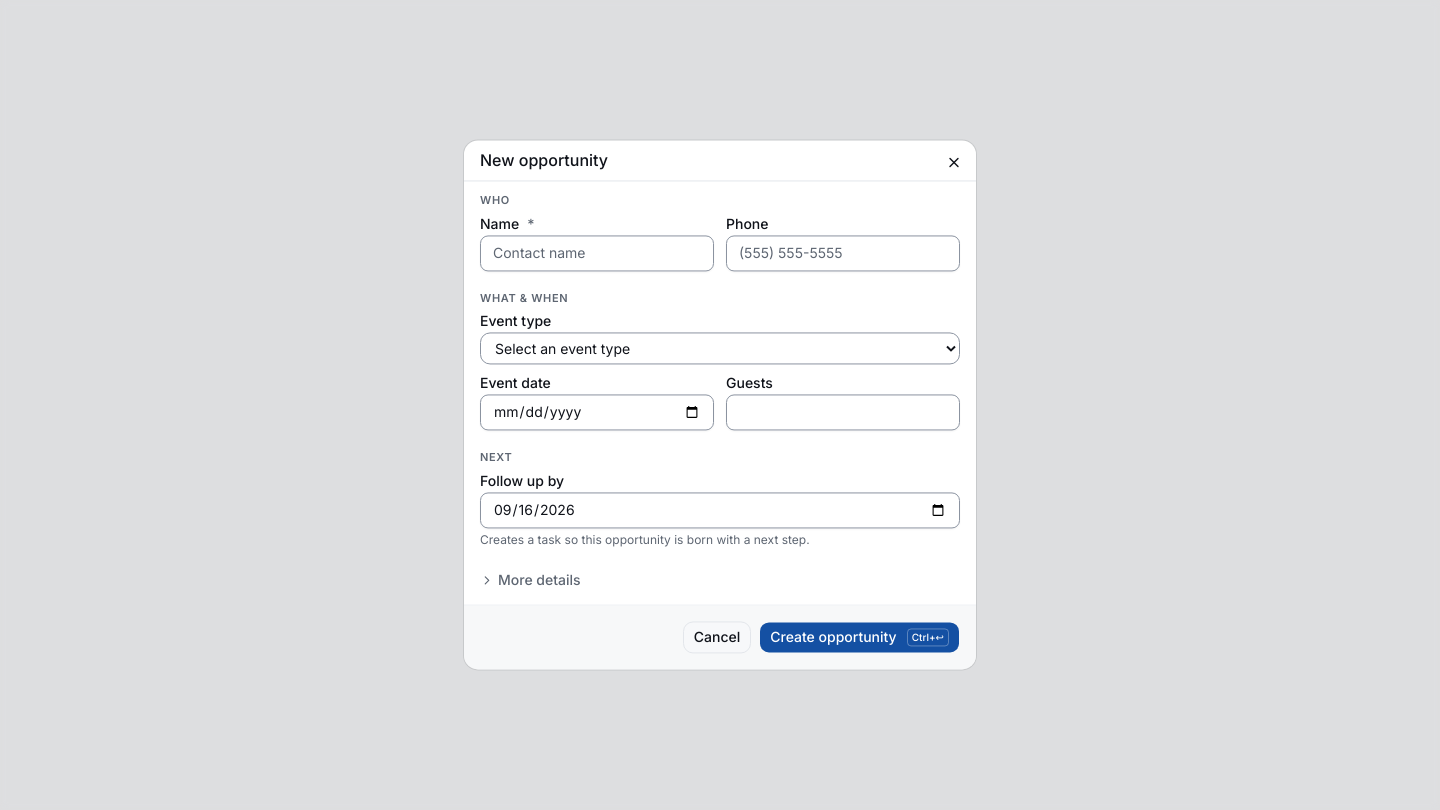
Test: NewEventTypePopover (inline create-in-flow) › opening › prefills the name from unrecognized free text via the hint action
Select "Something else…" in the dropdown labelled "Event type" at {"x": 720, "y": 349}, box [480,333,960,365]
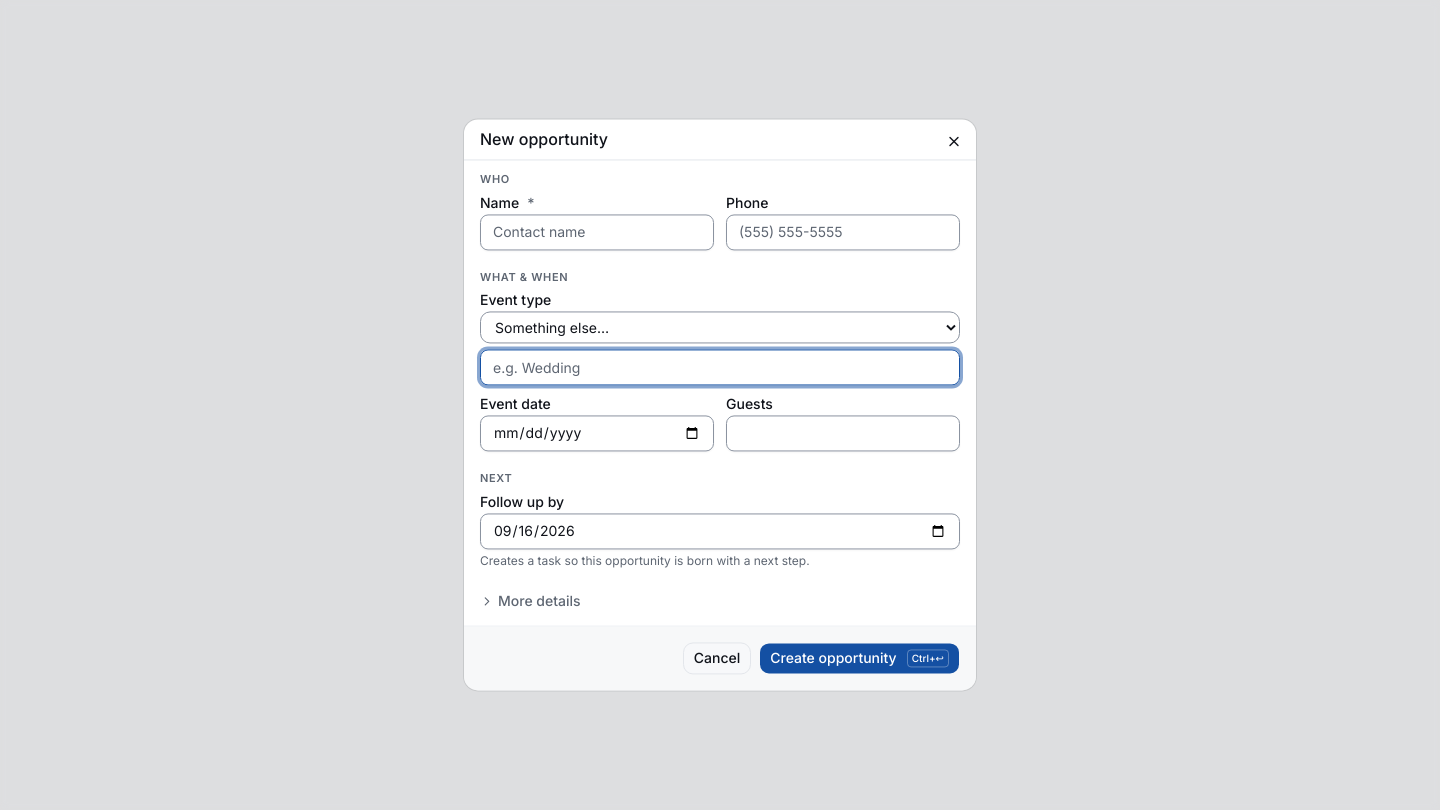
Type "  Quinceañera " into the field named "Custom event type".
click(720, 368); type("  Quinceañera ")  # box [480,350,960,386]
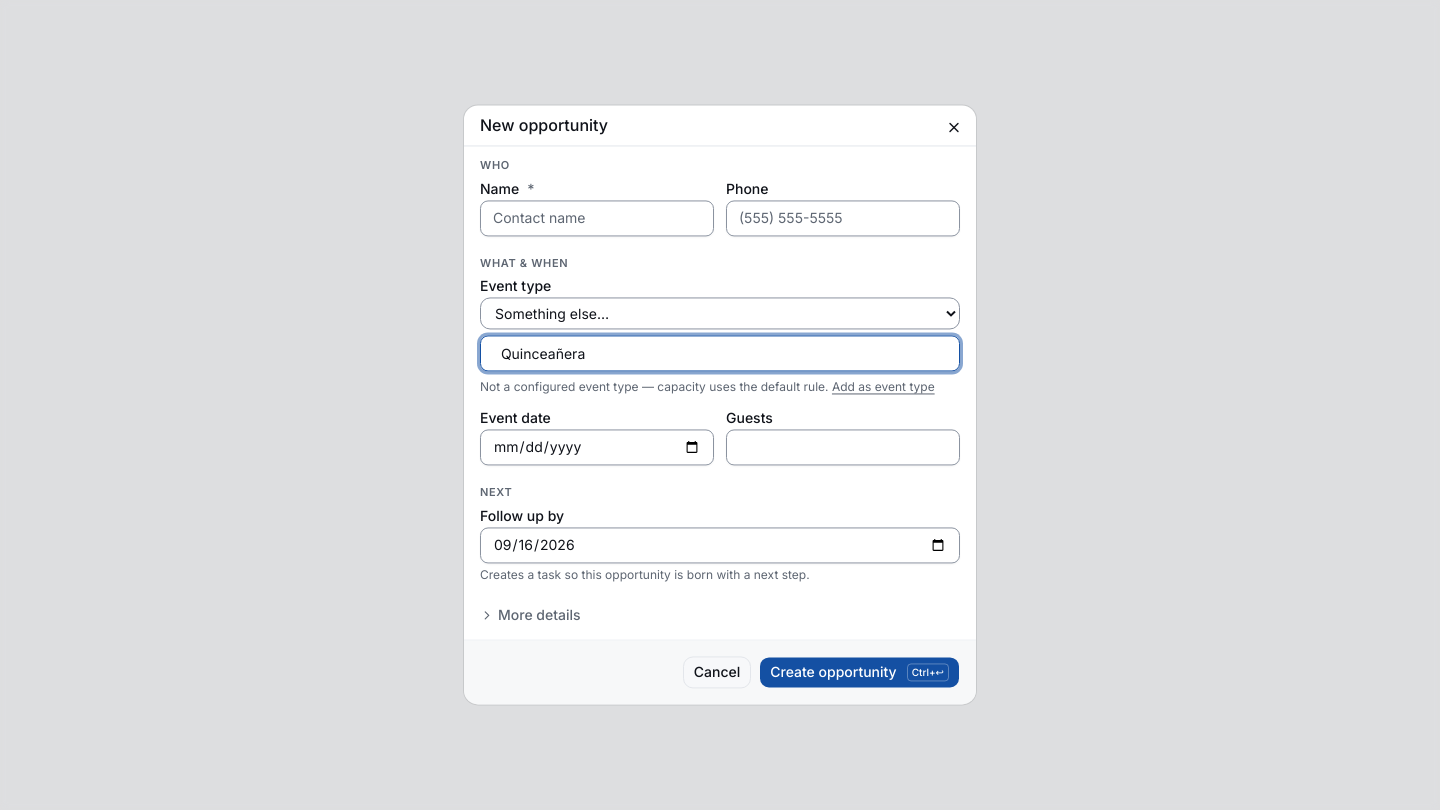
Click the button "Add as event type".
click(883, 388)  # box [832,376,935,400]
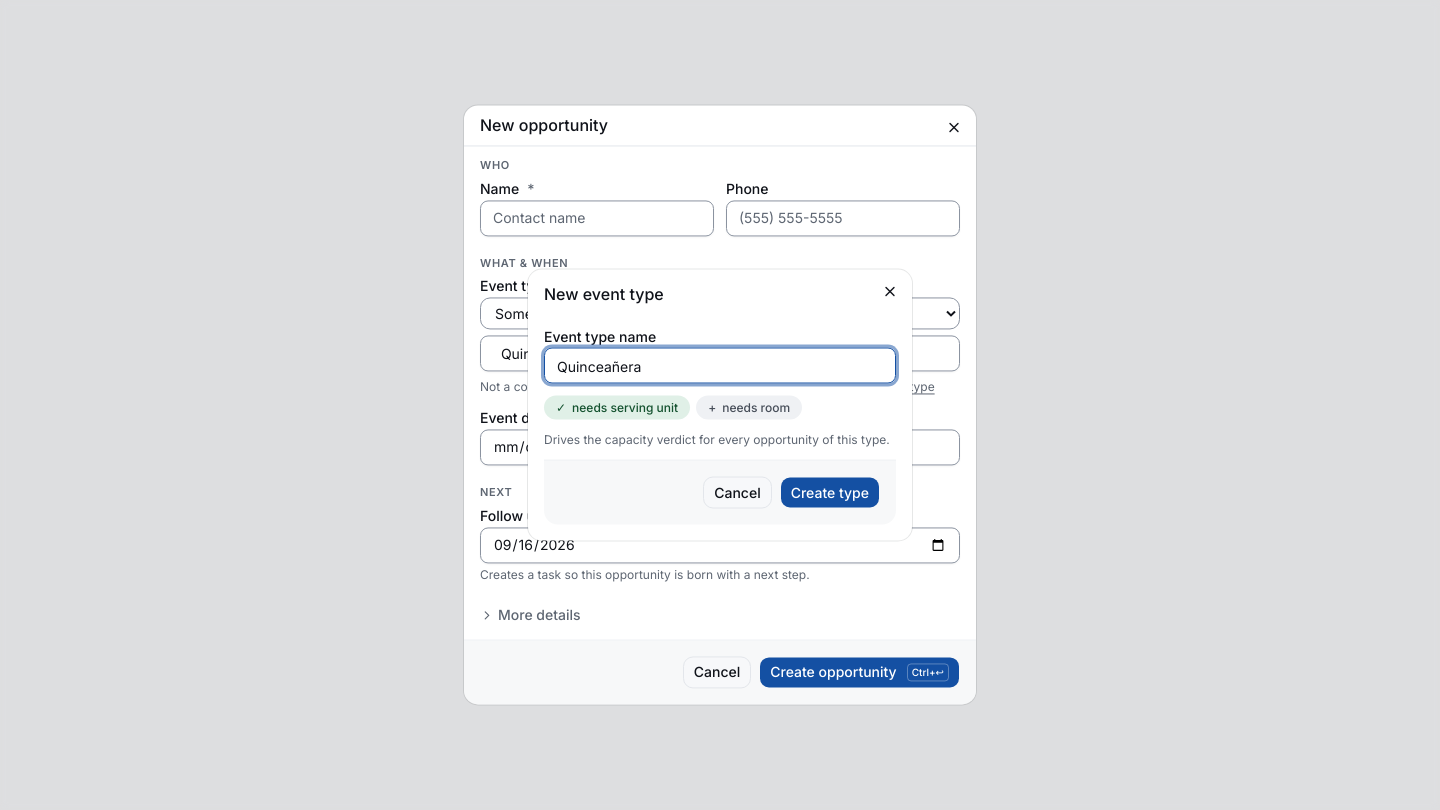
Expected: the dialog "New event type" is shown, [528,270,912,540]
Expected: the field labelled "Event type name" holds "Quinceañera", [544,348,896,384]
